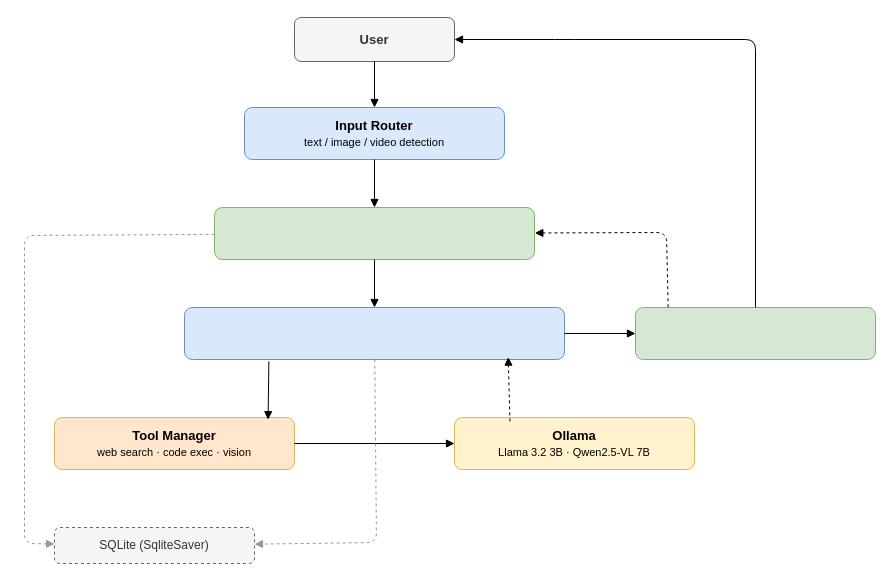
The diagram is 893 pixels wide and 581 high, and some of its shapes have lost their labels. Each missing label, with the box of its shape:
Agent — LangGraph graph ReAct loop · state management · routing: (184, 306, 564, 360)
Memory Manager retrieves history from SQLite: (214, 206, 534, 260)
Output Parser structure · validate · format: (634, 306, 876, 360)
